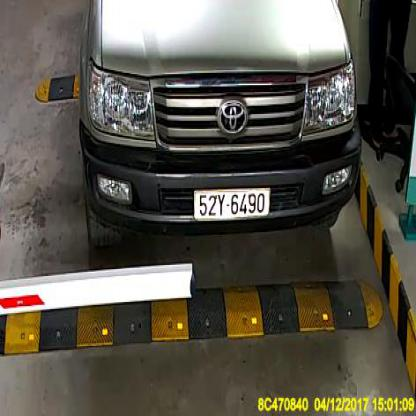biensoxe: (194, 187, 270, 218)
